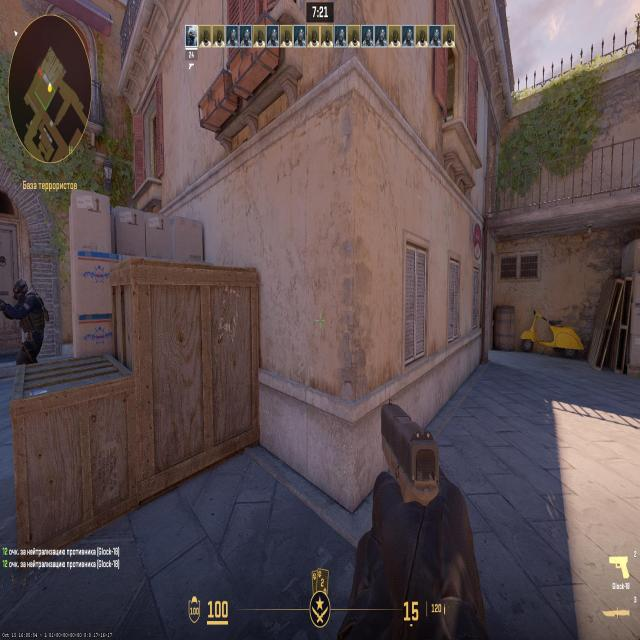CT: (12, 282, 41, 357)
CT_heat: (14, 287, 28, 305)
